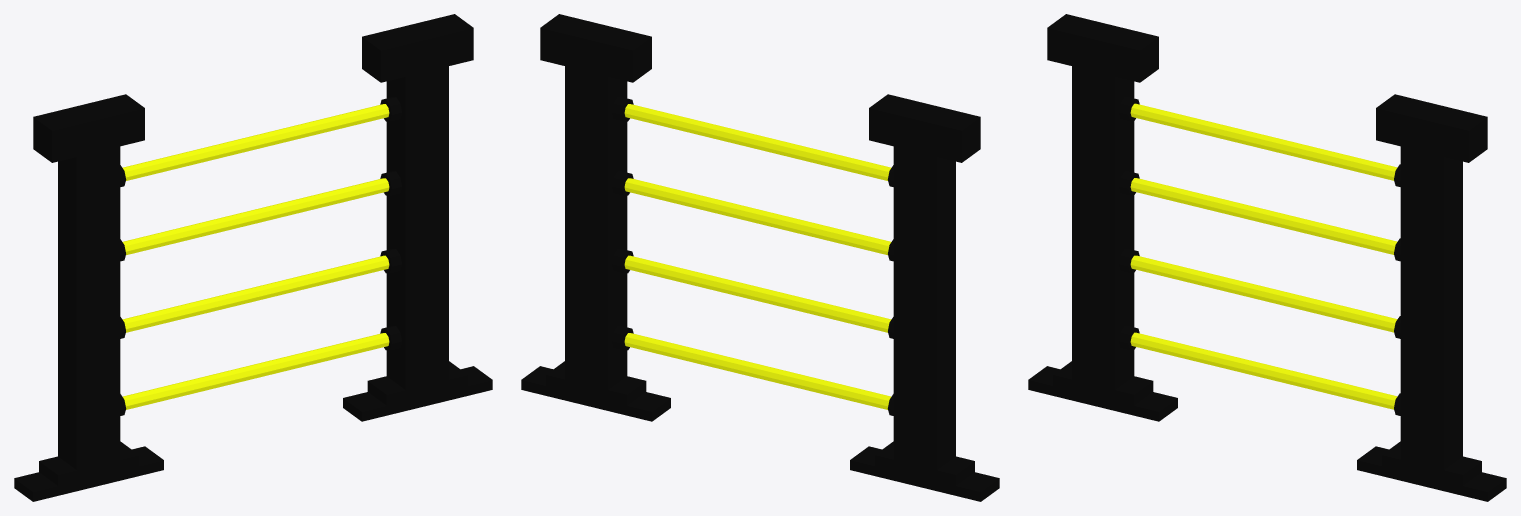
The model's file is LaserBarriere 1.glb.
3 views of the same model, side by side, from view 1: azimuth 30°, elevation 25°; view 2: azimuth 150°, elevation 25°; view 3: azimuth 330°, elevation 25° (orthographic).
Parts seen in each view (by area): view 1: Scifi_SmallLaser_Barrier_Scifi_Tunnel_Texture_0; view 2: Scifi_SmallLaser_Barrier_Scifi_Tunnel_Texture_0; view 3: Scifi_SmallLaser_Barrier_Scifi_Tunnel_Texture_0.
Boxes of the visible parts, box(x1,y1,x2,y2) form: Scifi_SmallLaser_Barrier_Scifi_Tunnel_Texture_0: box(14, 14, 492, 501); Scifi_SmallLaser_Barrier_Scifi_Tunnel_Texture_0: box(521, 14, 999, 501); Scifi_SmallLaser_Barrier_Scifi_Tunnel_Texture_0: box(1028, 14, 1506, 501).
Bounding box in the file's own units: 1.93 × 1.47 × 0.1377.
1 material, 1 textured.
